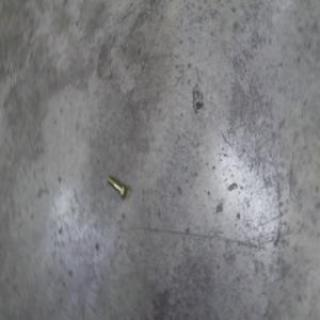Bolttrack_idkeyframe: (106, 174, 127, 199)
